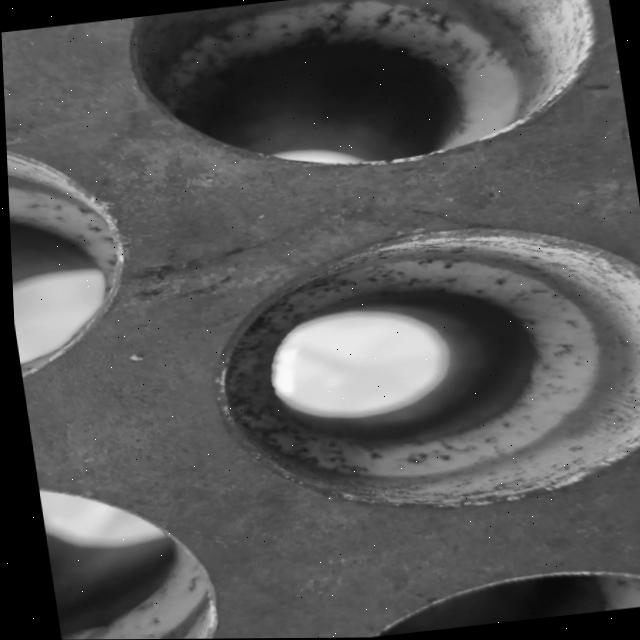Hole: (188, 207, 640, 532), (117, 0, 614, 190), (4, 124, 141, 390), (31, 464, 216, 640)
